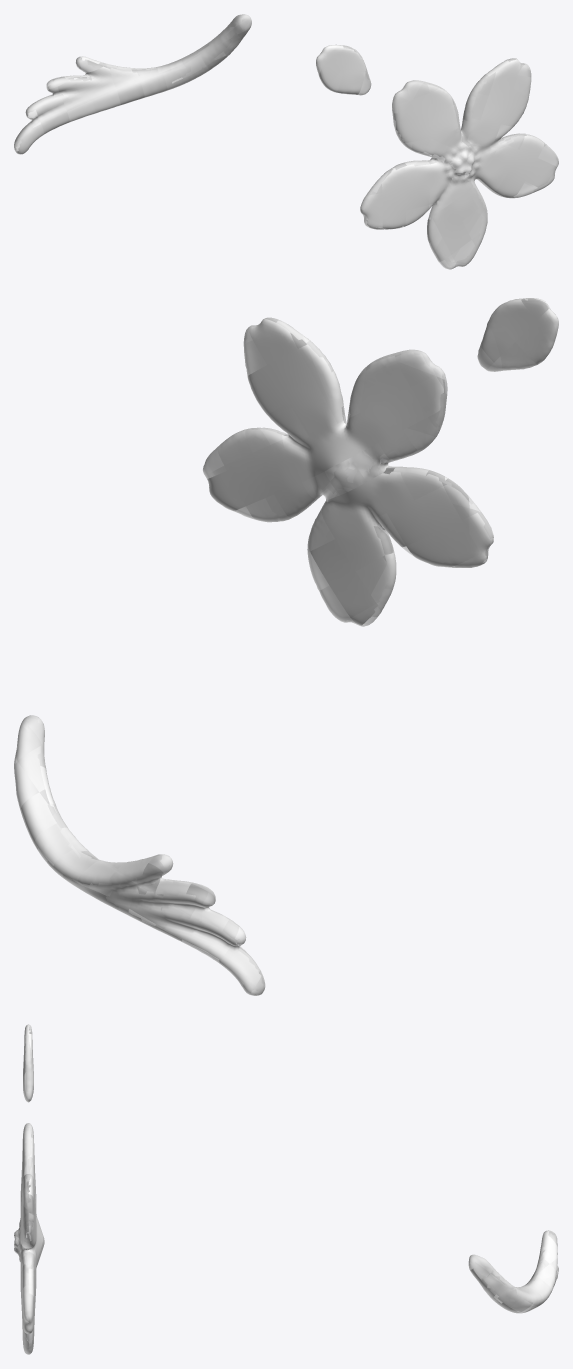
File: announcement-right-transformed.glb
The picture shows the model from 3 angles, top to bottom: view 1: azimuth 30°, elevation 25°; view 2: azimuth 150°, elevation 25°; view 3: azimuth 270°, elevation 25°; orthographic projection. The views are drawn at different scales.
Parts seen in each view (by area): view 1: Announcement; view 2: Announcement; view 3: Announcement.
Part boxes in pixels (x1,y1,x2,y2): Announcement: (14, 14, 558, 269); Announcement: (14, 298, 558, 995); Announcement: (14, 1024, 558, 1354).
Size of the model in its own units: 143 by 130 by 224.
1 material, 1 textured.
